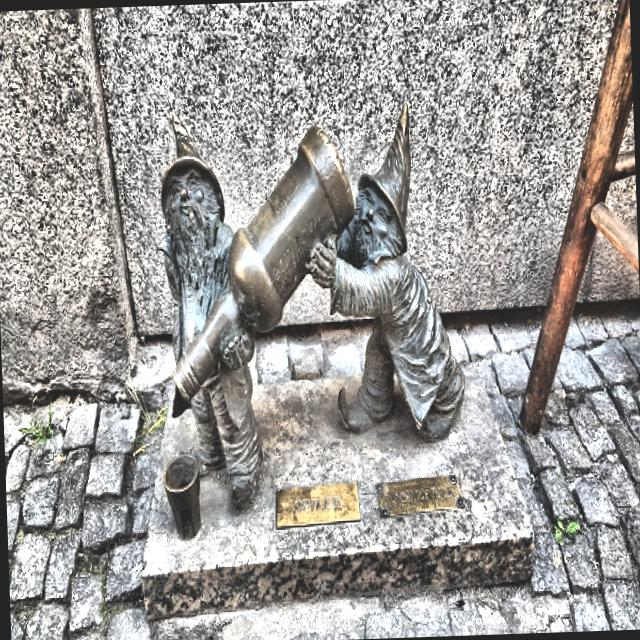Ogorzalek_i_Opilek: (160, 104, 462, 513)
